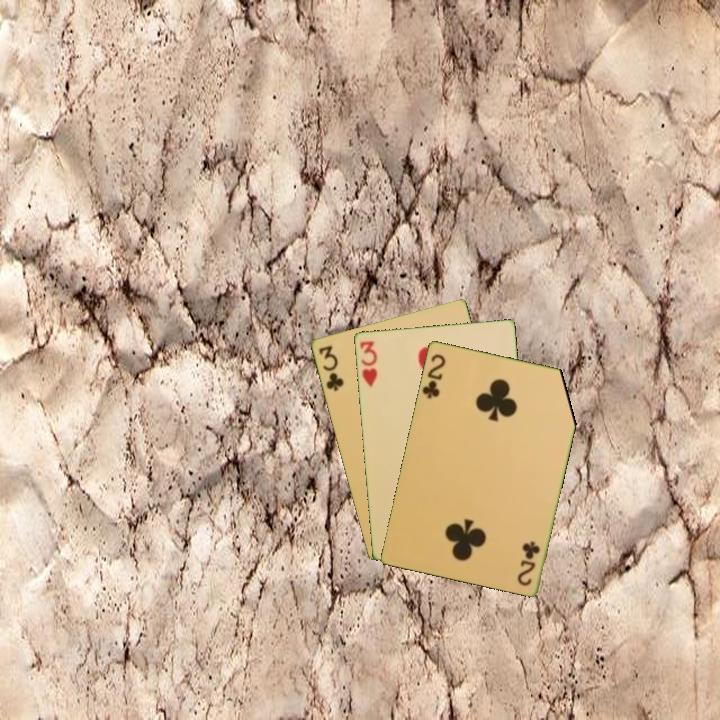2c: (419, 350, 448, 401), (514, 537, 543, 588)
3c: (315, 342, 346, 394)
3h: (356, 337, 380, 389)
